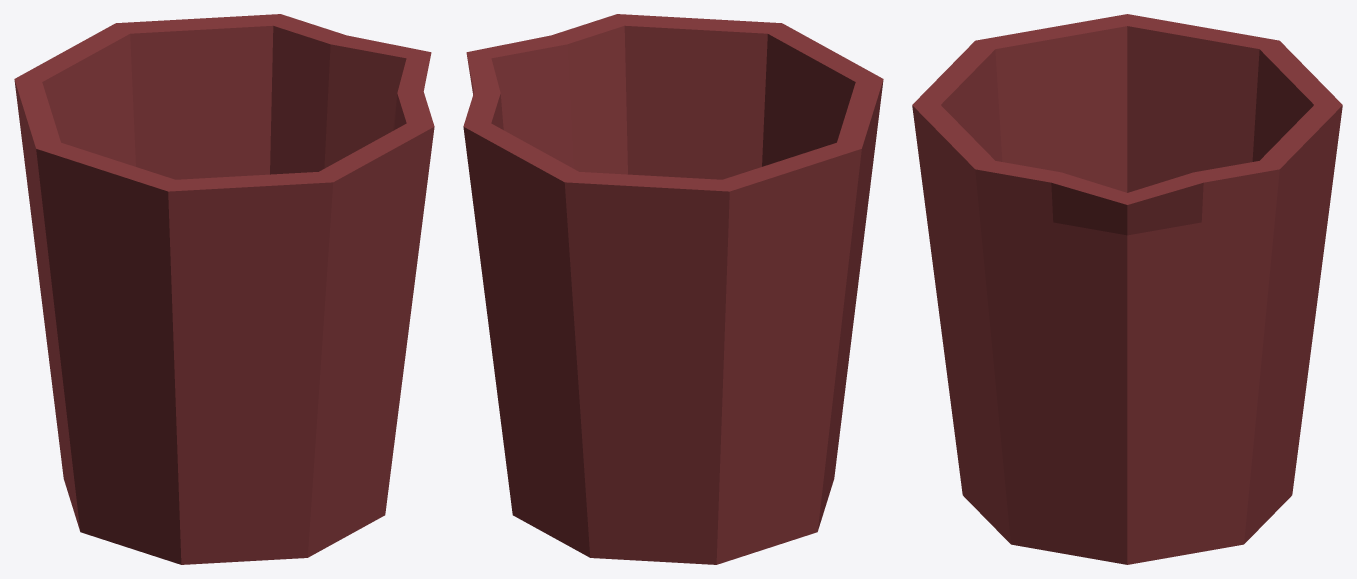
File: JC_Bucket.fbx
3 views of the same model, side by side, from view 1: azimuth 30°, elevation 25°; view 2: azimuth 150°, elevation 25°; view 3: azimuth 270°, elevation 25° (orthographic).
Visible parts, largest first — view 1: Cylinder; view 2: Cylinder; view 3: Cylinder.
Part boxes in pixels (box(x1,y1,x2,y2)): Cylinder: box(14, 14, 434, 564); Cylinder: box(463, 14, 883, 564); Cylinder: box(912, 14, 1342, 564).
Bounding box in the file's own units: 163 × 155 × 155.
